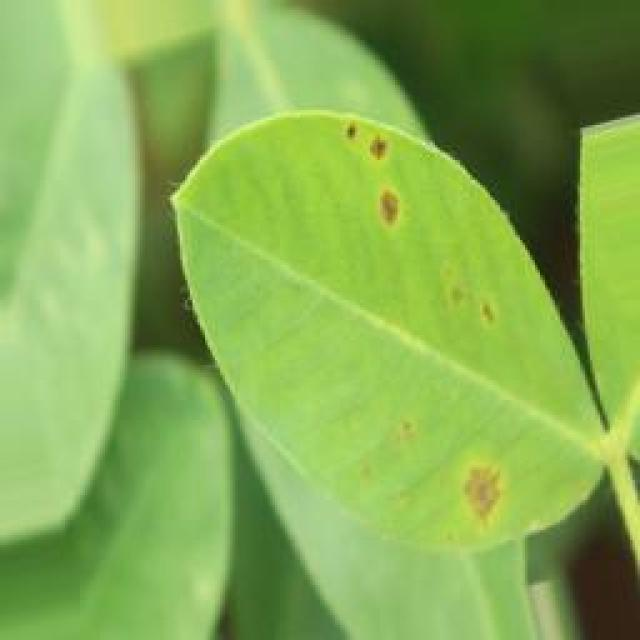Early_leaf_spot: (319, 110, 407, 235), (416, 447, 516, 548), (434, 273, 526, 346), (386, 394, 428, 454)
